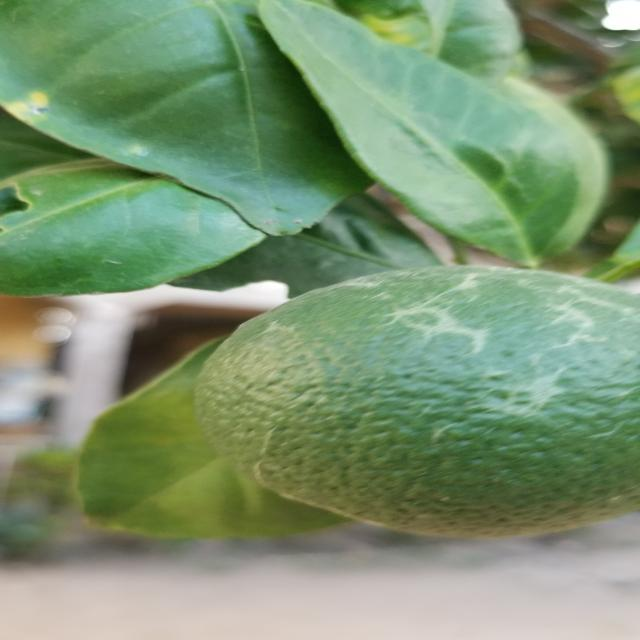Unripe: (196, 259, 640, 544)
